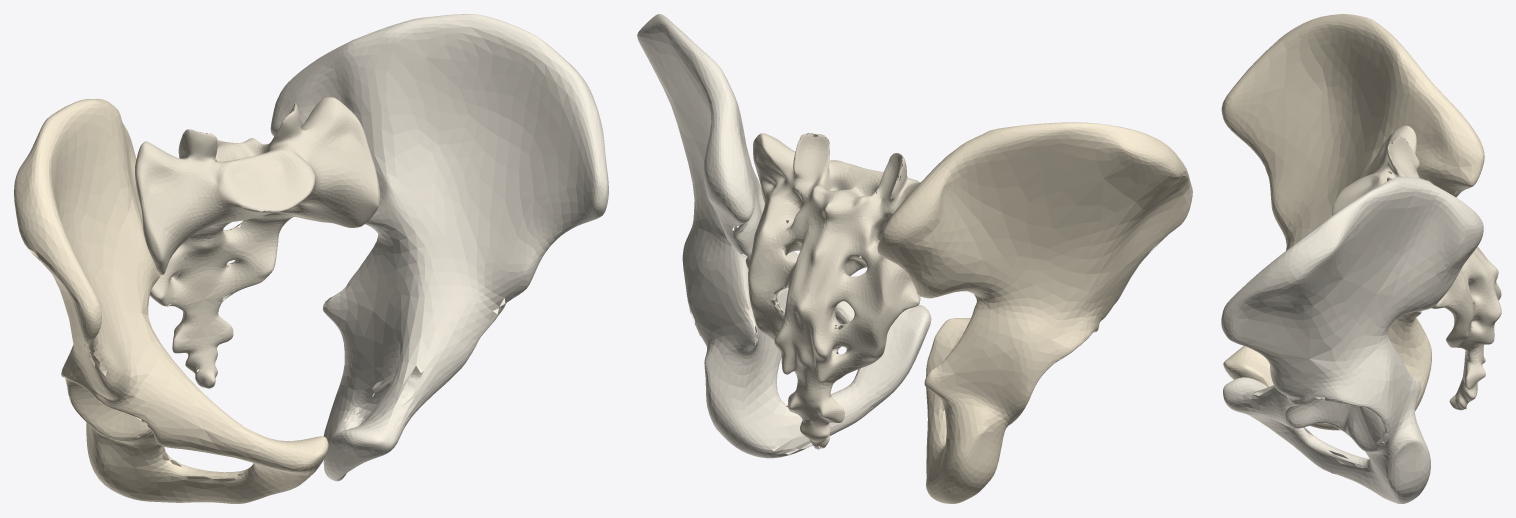
File: bacino.glb
3 views of the same model, side by side, from view 1: azimuth 30°, elevation 25°; view 2: azimuth 150°, elevation 25°; view 3: azimuth 270°, elevation 25° (orthographic). The views are drawn at different scales.
Parts seen in each view (by area): view 1: left hip, right hip, posterior part of pelvis; view 2: right hip, left hip, posterior part of pelvis; view 3: left hip, right hip, posterior part of pelvis.
Boxes of the visible parts, left/top/right/bottom form: left hip: left=270, top=14, right=608, bottom=481; right hip: left=14, top=98, right=328, bottom=503; posterior part of pelvis: left=135, top=97, right=380, bottom=388; right hip: left=877, top=122, right=1192, bottom=503; left hip: left=637, top=14, right=931, bottom=458; posterior part of pelvis: left=745, top=133, right=920, bottom=449; left hip: left=1221, top=176, right=1483, bottom=503; right hip: left=1221, top=14, right=1484, bottom=430; posterior part of pelvis: left=1332, top=125, right=1501, bottom=410.
Bounding box in the file's own units: 288 × 205 × 146.
